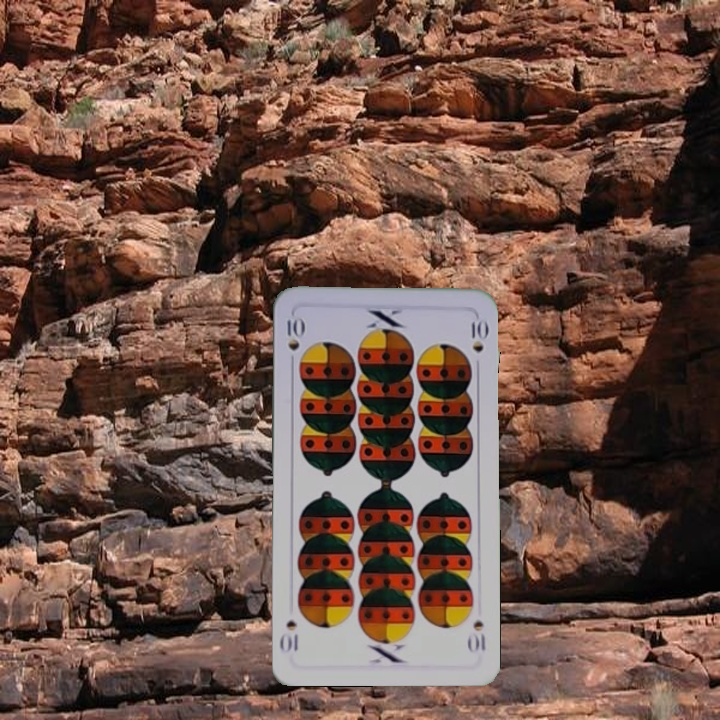S10: (282, 313, 305, 370), (465, 616, 488, 655)
